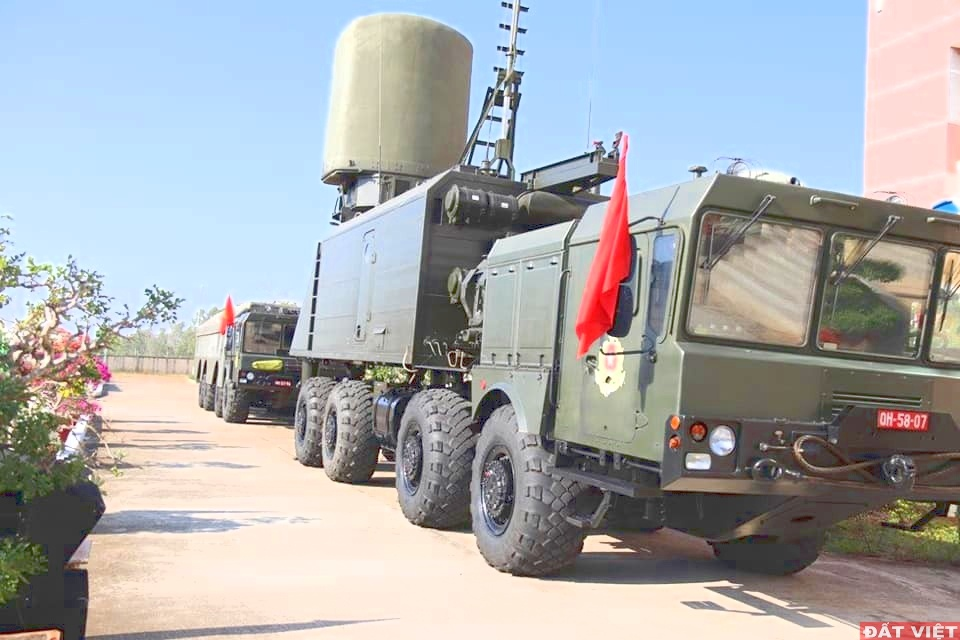plate: (870, 402, 931, 434)
